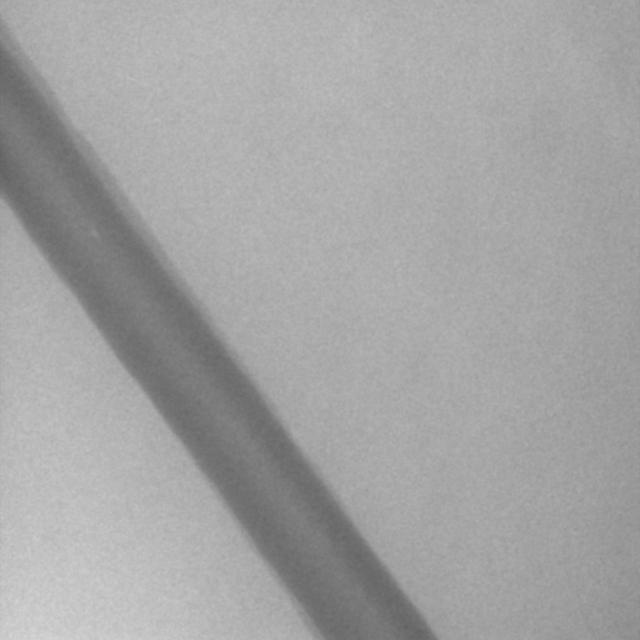air hole: (87, 223, 101, 241)
